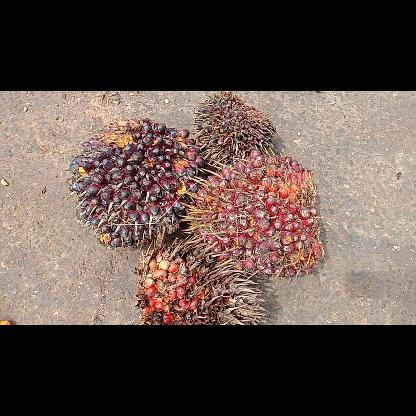Kurang masak: (67, 118, 205, 250)
TBS abnormal: (191, 92, 279, 156)
TBS masak: (182, 147, 328, 277)
Terlalu masak: (132, 234, 276, 324)
